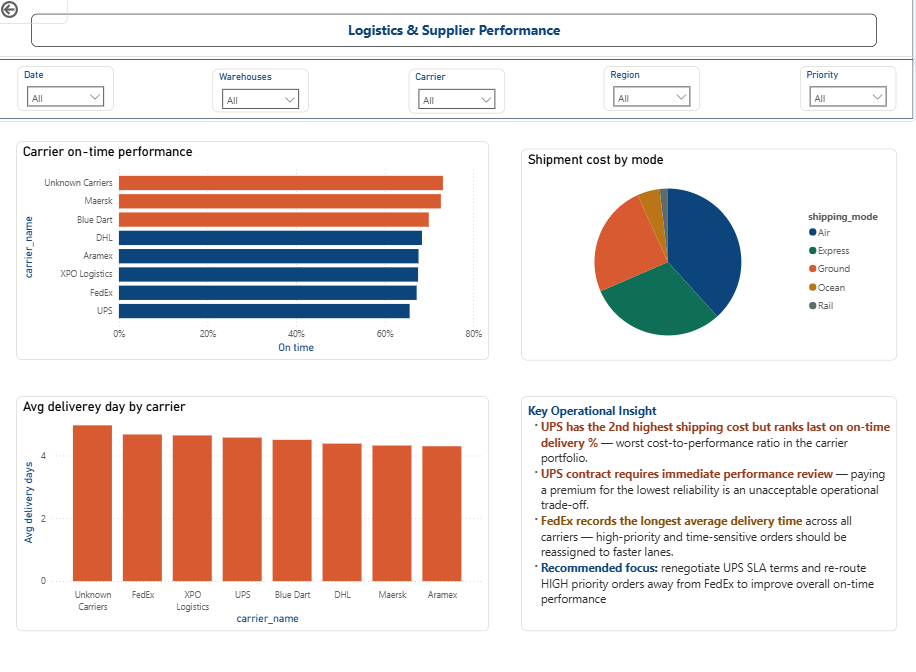

What the dashboard file says about the page in this screenshot:
{"tool":"powerbi","page":{"name":"Supllier","canvas":[1280,951],"ordinal":2},"visuals":[{"type":"shape","box":[0,0,1270.7,97.4],"z":0},{"type":"textbox","box":[50.8,26.1,1166.4,45.3],"z":1000},{"type":"shape","box":[0,83.7,1270.7,90.6],"z":2000},{"type":"slicer","title":"Date","fields":{"Values":["Calendar.Date.Variation.Date Hierarchy.Month"]},"box":[30.2,97.4,133.1,61.7],"z":3000},{"type":"slicer","title":"Warehouses","fields":{"Values":["public warehouse_clean.warehouse_id"]},"box":[300.2,101.5,133.1,60.4],"z":4000},{"type":"slicer","title":"Priority","fields":{"Values":["public orders_clean.order_priority"]},"box":[1110.1,98.8,133.1,61.7],"z":5000},{"type":"slicer","title":"Carrier","fields":{"Values":["public shipments_stagging.carrier_name"]},"box":[570.2,101.5,133.1,61.7],"z":6000},{"type":"slicer","title":"Region","fields":{"Values":["public warehouse_clean.region"]},"box":[840.1,97.4,133.1,61.7],"z":7000},{"type":"clusteredBarChart","title":"Carrier on-time performance","fields":{"Category":["public shipments_stagging.carrier_name"],"Y":["Calendar.On time"]},"box":[30,201.7,651.7,301.7],"z":8000},{"type":"textbox","box":[726,554,518,324],"z":9000},{"type":"columnChart","title":"Avg deliverey day  by carrier","fields":{"Y":["Calendar.Avg delivery days"],"Category":["public shipments_stagging.carrier_name"]},"box":[30,554,652,324],"z":10000},{"type":"pieChart","title":"Shipment cost by mode","fields":{"Category":["public shipments_stagging.shipping_mode"],"Y":["Sum(public shipments_stagging.shipment_cost)"]},"box":[726,212,518,292],"z":11000},{"type":"actionButton","box":[0,0,100,40],"z":12000}]}

Visuals, with their boxes in screenshot pixels (x1, y1, x2, y2), scaled from the page's 1280x951 canvas onto the 916x672 screenshot:
shape: (left=0, top=0, right=909, bottom=69)
textbox: (left=36, top=18, right=871, bottom=50)
shape: (left=0, top=59, right=909, bottom=123)
"Date" slicer: (left=22, top=69, right=117, bottom=112)
"Warehouses" slicer: (left=215, top=72, right=310, bottom=114)
"Priority" slicer: (left=794, top=70, right=890, bottom=113)
"Carrier" slicer: (left=408, top=72, right=503, bottom=115)
"Region" slicer: (left=601, top=69, right=696, bottom=112)
"Carrier on-time performance" clusteredBarChart: (left=21, top=143, right=488, bottom=356)
textbox: (left=520, top=391, right=890, bottom=620)
"Avg deliverey day  by carrier" columnChart: (left=21, top=391, right=488, bottom=620)
"Shipment cost by mode" pieChart: (left=520, top=150, right=890, bottom=356)
actionButton: (left=0, top=0, right=72, bottom=28)
